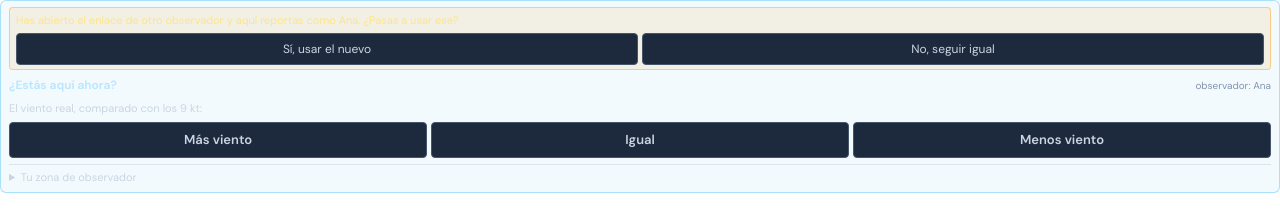
SpotReportBox with a personal observer code › another observer link opened on this device is asked about, not taken
Expected: the text "aquí reportas como Ana" is shown, [224, 13, 358, 27]
Click the button "No, seguir igual": (953, 48) [642, 32, 1264, 64]
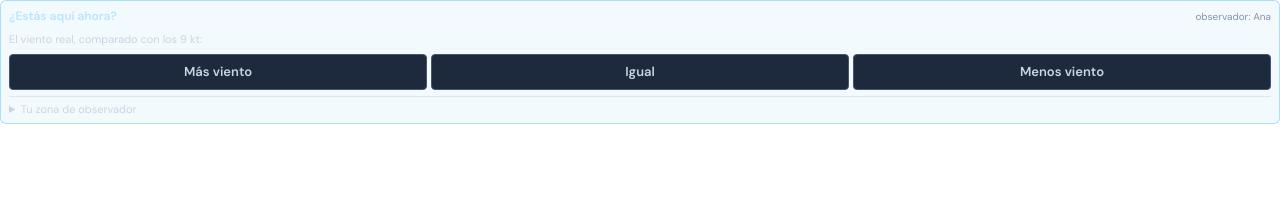
Now the text "enlace de otro observador" is gone
